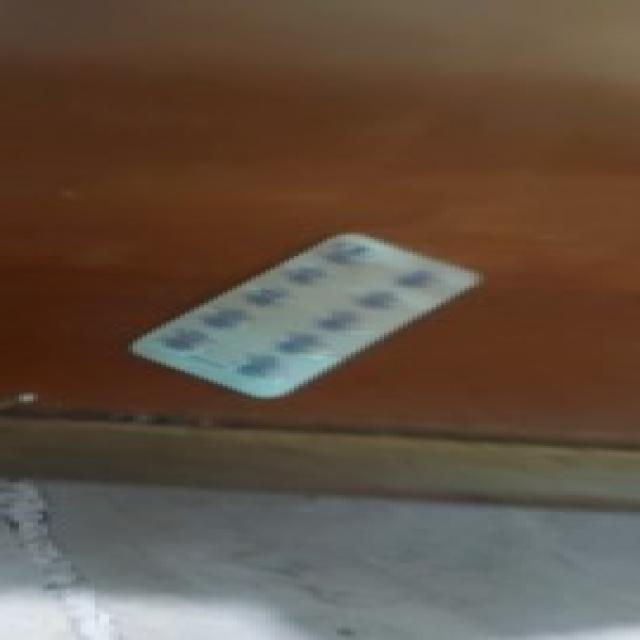Cacat: (127, 232, 491, 398)
